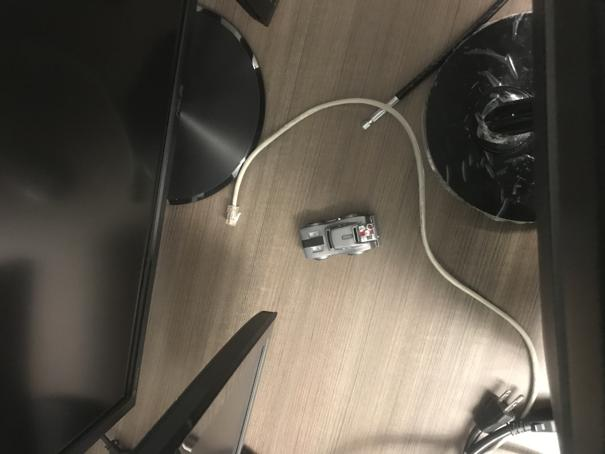Charger: (297, 211, 385, 262)
